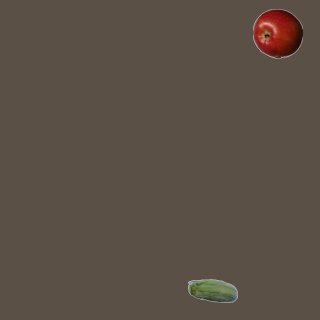Apple Braeburn: (252, 8, 302, 58)
Corn Husk: (187, 267, 237, 317)
